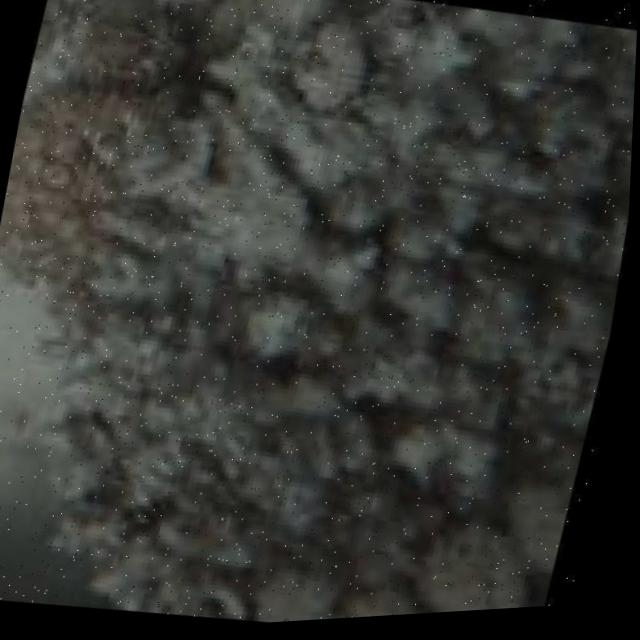Dead Coral: (70, 0, 640, 554)
